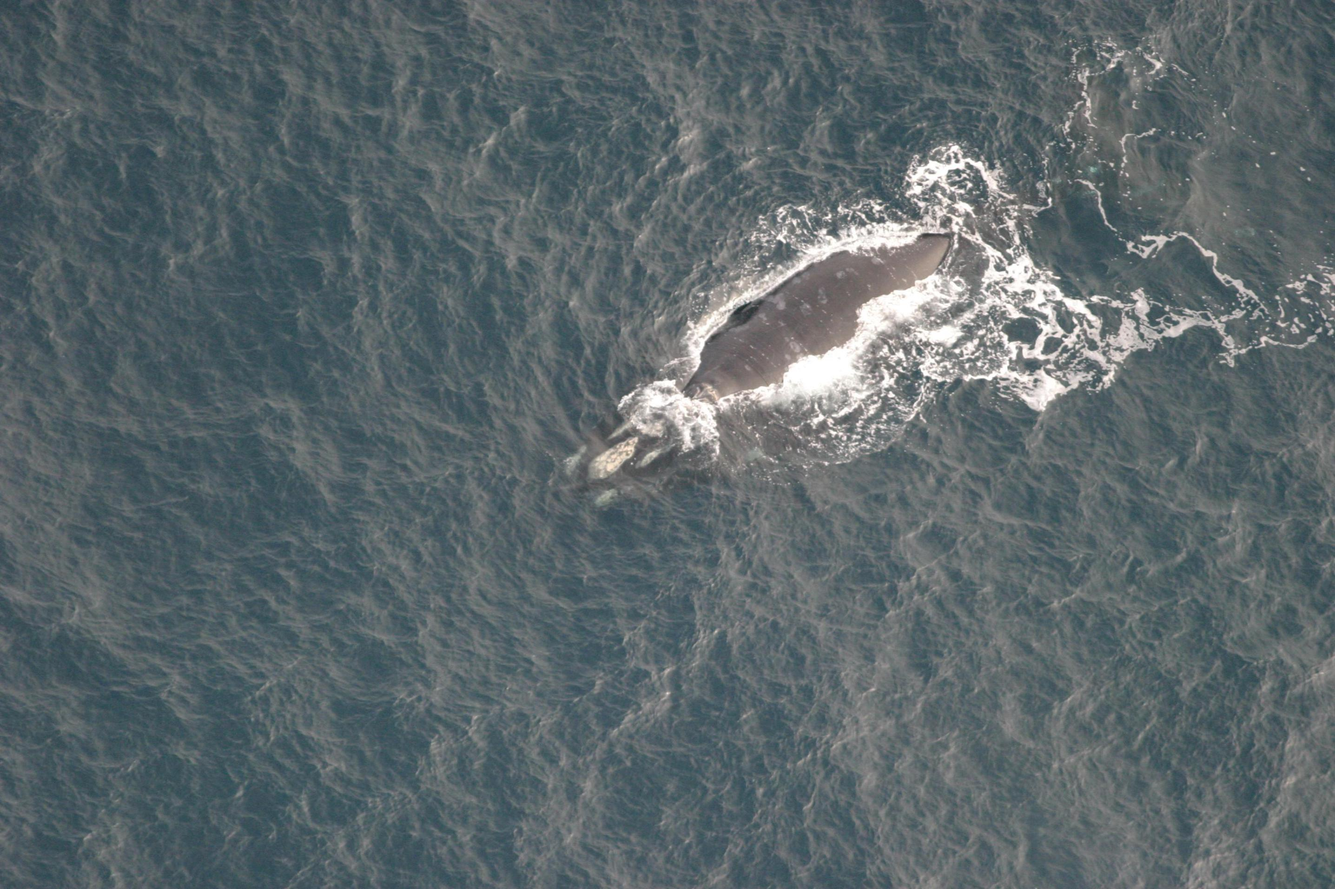whale: (547, 184, 1001, 537)
